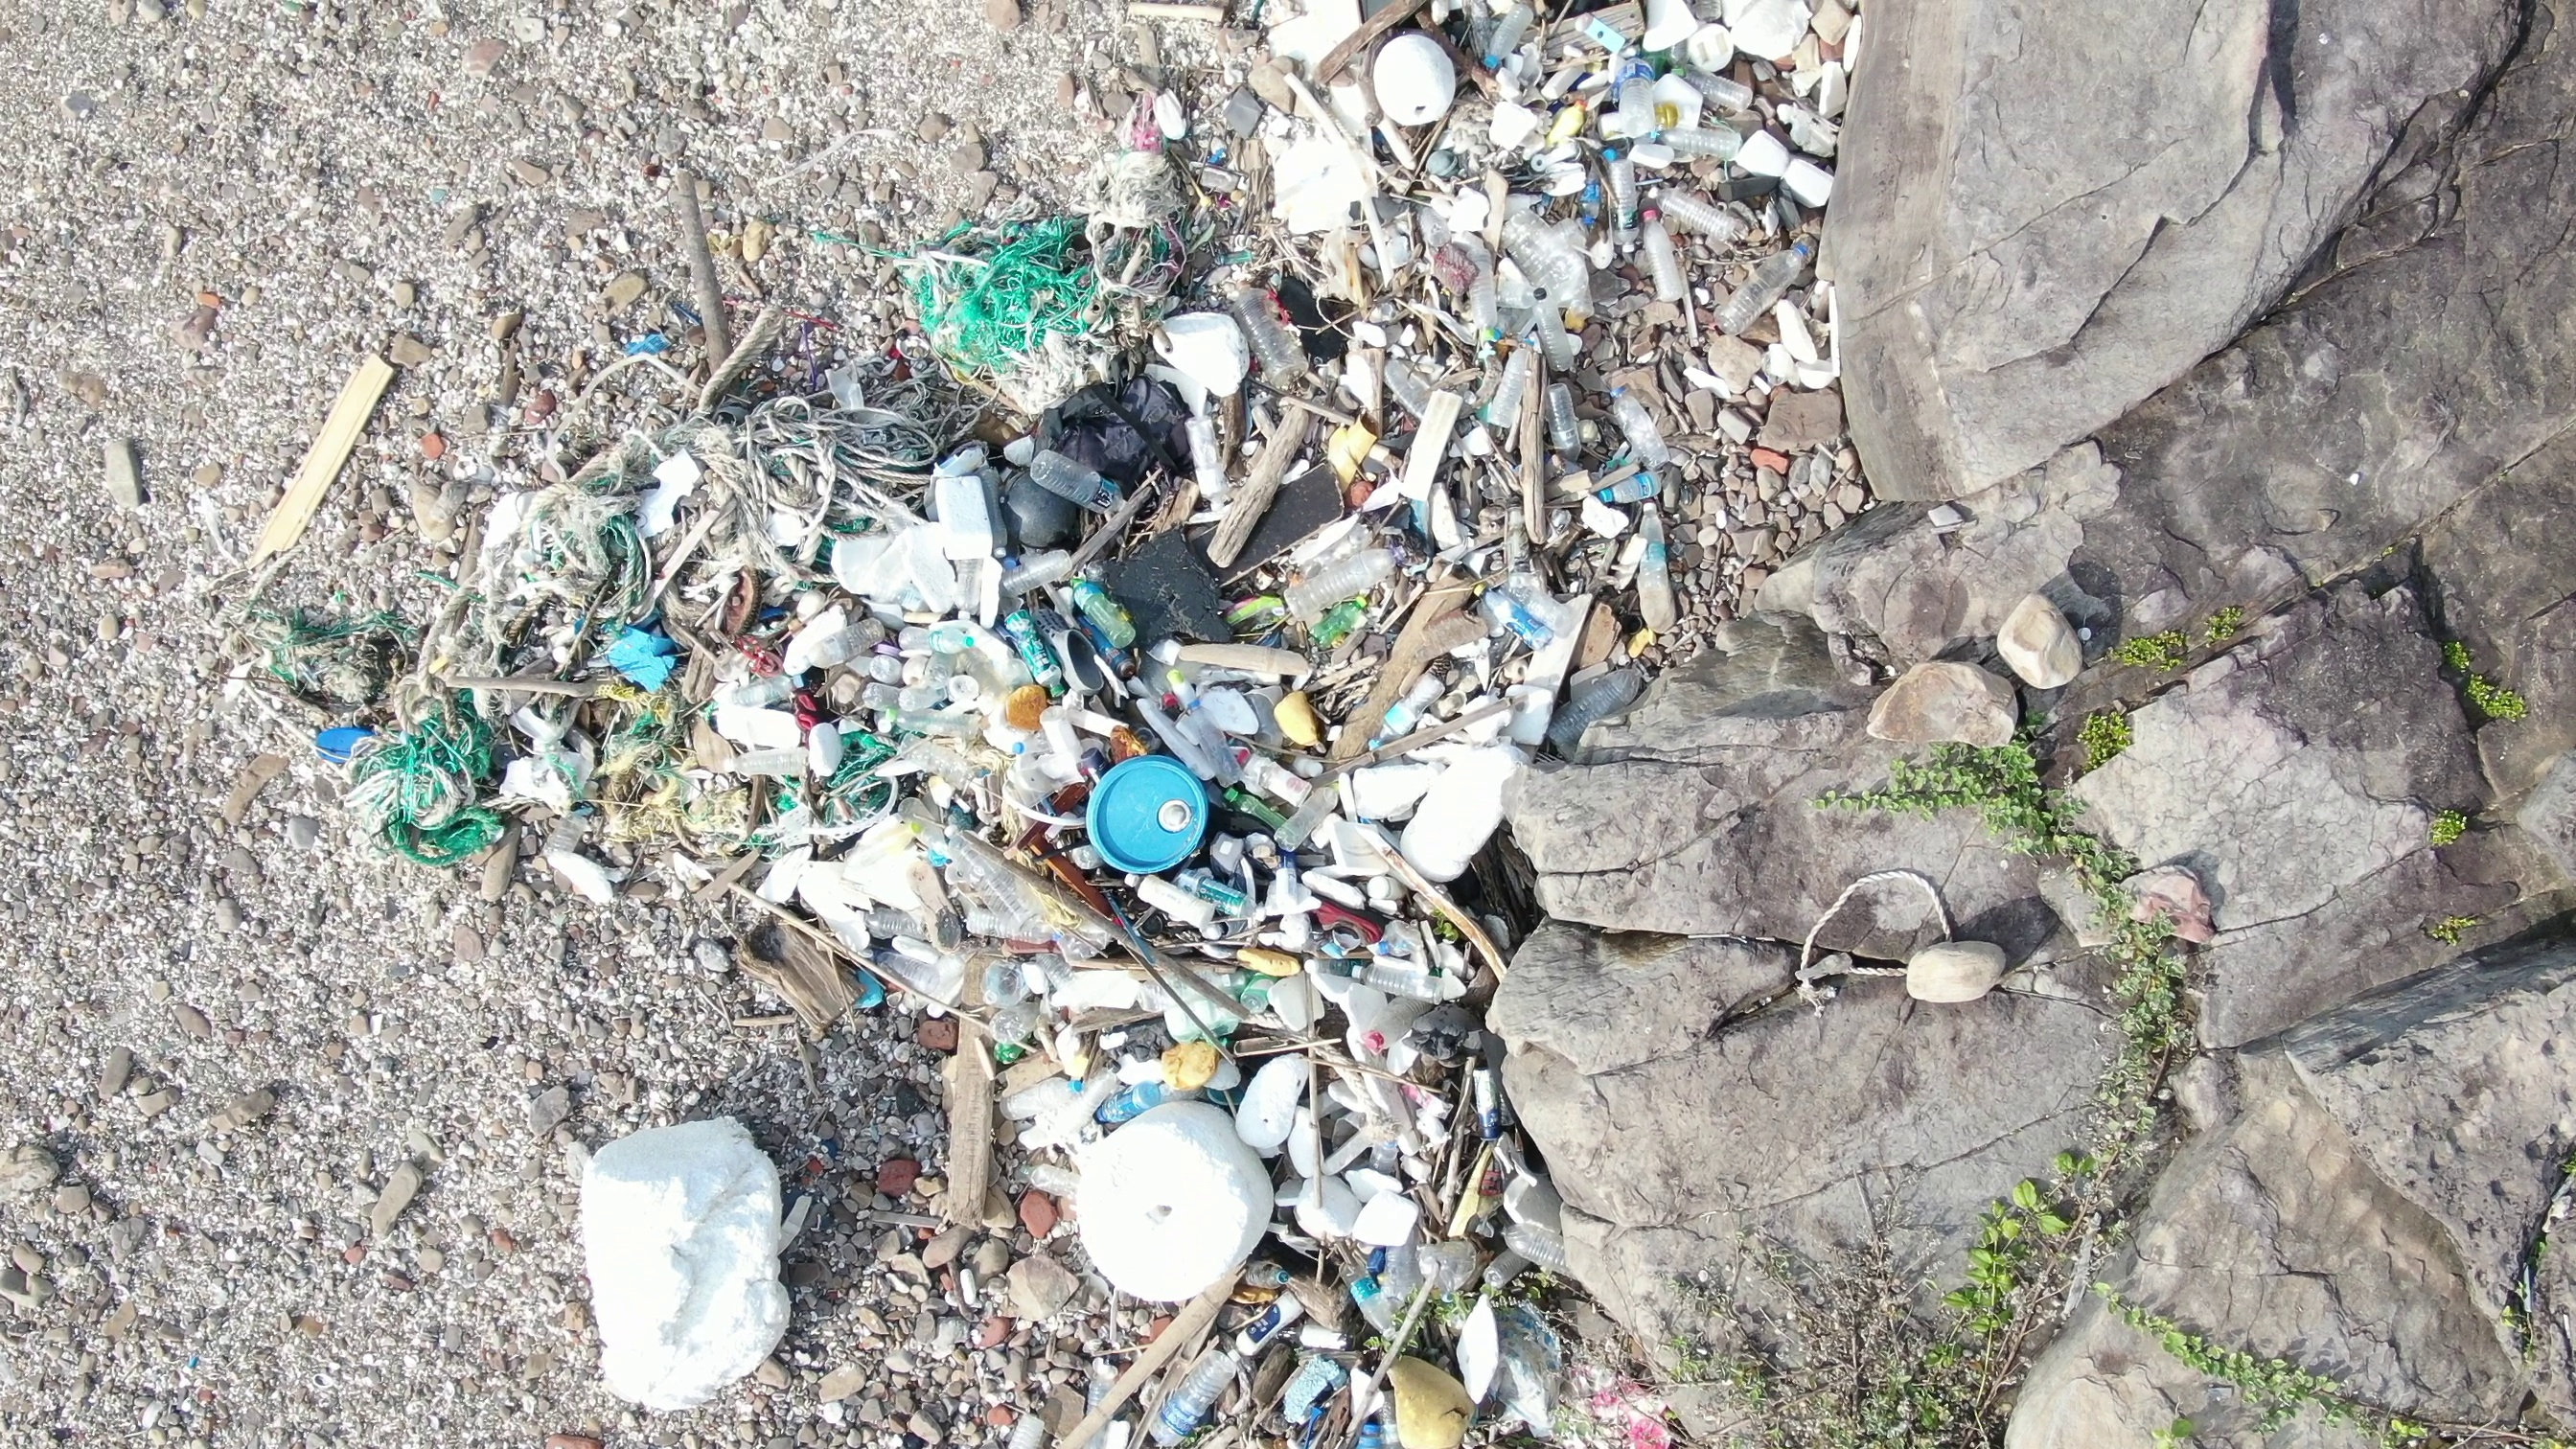bottle: (1697, 235, 1829, 340), (1152, 1345, 1249, 1444), (1626, 488, 1681, 637), (1336, 1249, 1408, 1357), (1468, 568, 1546, 656), (1023, 451, 1132, 511), (1056, 571, 1136, 649), (1523, 294, 1583, 386), (1614, 44, 1658, 149), (1527, 387, 1589, 460), (1541, 372, 1583, 474), (1594, 469, 1675, 513)
garbage: (364, 186, 1152, 904), (789, 902, 1589, 1449), (977, 386, 1695, 876), (1155, 7, 1831, 370), (1789, 856, 1976, 1019)
